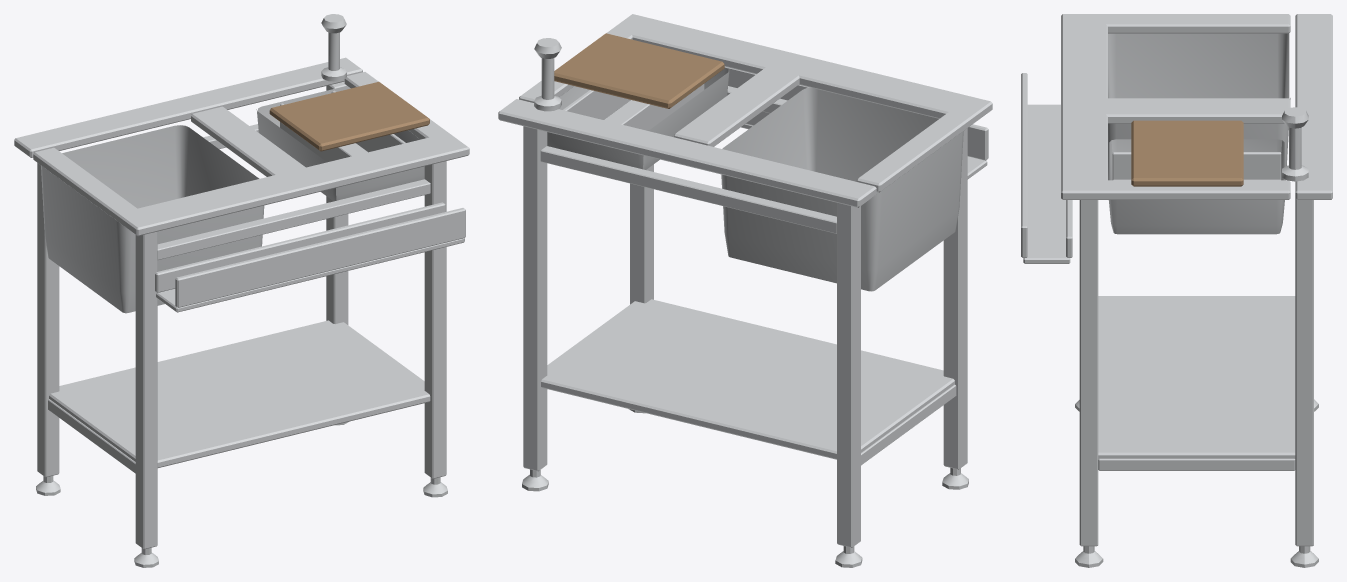
Rendered from bar-pub-and-brewery-taproom-underbar-cocktail-station-ba50a072__18336.glb.
3 views of the same model, side by side, from view 1: azimuth 30°, elevation 25°; view 2: azimuth 150°, elevation 25°; view 3: azimuth 270°, elevation 25° (orthographic). The views are drawn at different scales.
Visible parts, largest first — view 1: underbar-cocktail-station; view 2: underbar-cocktail-station; view 3: underbar-cocktail-station.
Boxes of the visible parts, left/top/right/bottom form: underbar-cocktail-station: left=14, top=14, right=469, bottom=567; underbar-cocktail-station: left=498, top=14, right=992, bottom=567; underbar-cocktail-station: left=1021, top=14, right=1332, bottom=567.
Size of the model in its own units: 0.9 by 1.05 by 0.6651.
